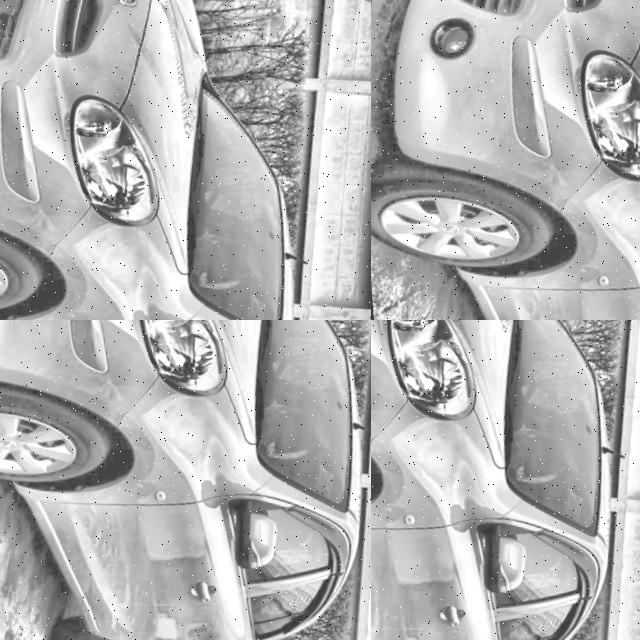license-plate: (283, 0, 371, 258)
